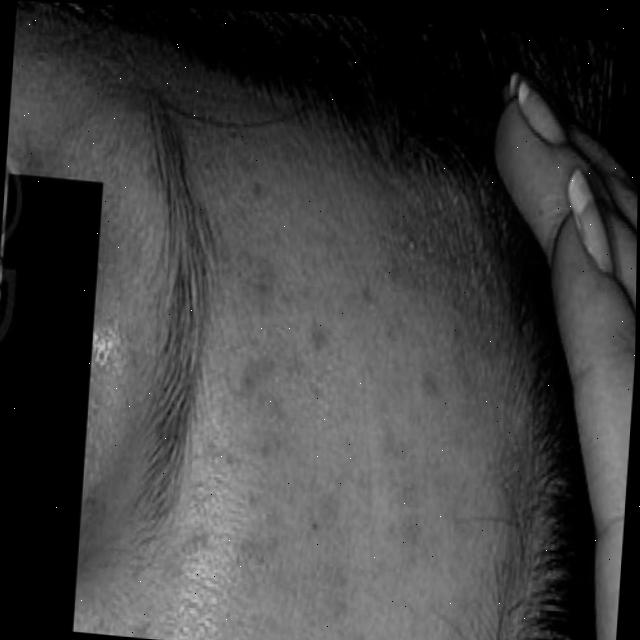Rosacea: (168, 235, 471, 640)
